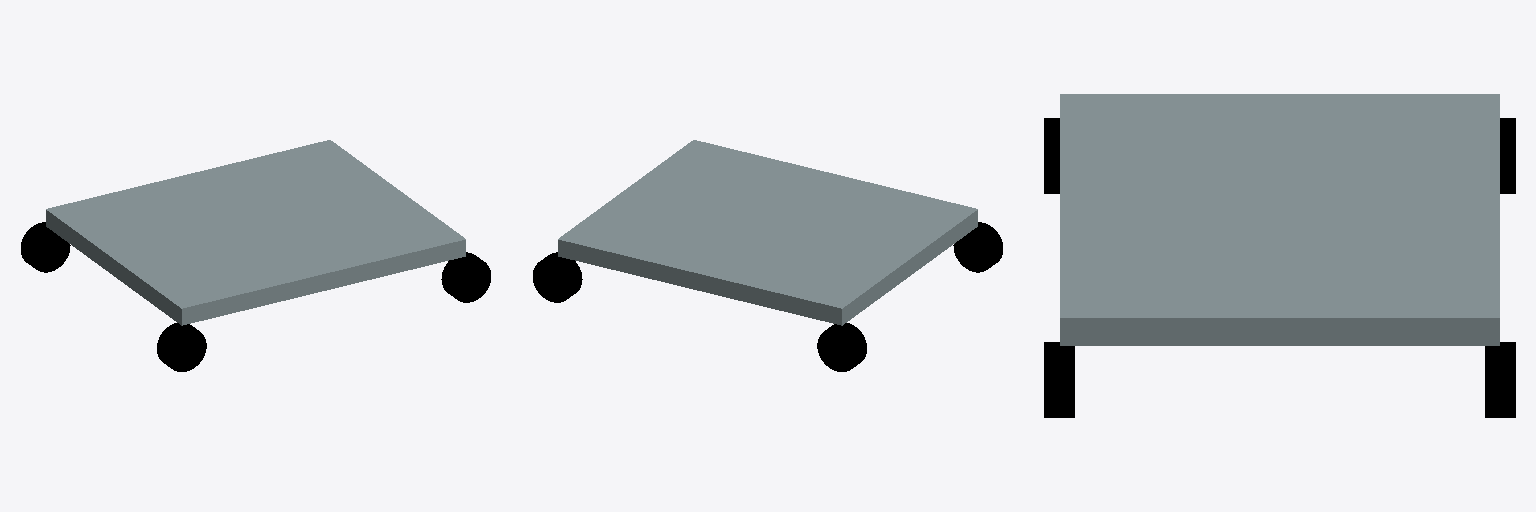
The robot description file, URDF, robot "small_car":
<?xml version="1.0" ?>
<!-- =================================================================================== -->
<!-- |    This document was autogenerated by xacro from car.xacro                      | -->
<!-- |    EDITING THIS FILE BY HAND IS NOT RECOMMENDED                                 | -->
<!-- =================================================================================== -->
<!-- <?xml version="1.0"?>
<robot xmlns:xacro="http://www.ros.org/wiki/xacro" name="Fan"> -->
<!--  -->
<robot name="small_car">
  <material name="green">
    <color rgba="0 0.5 0.2 1"/>
  </material>
  <material name="black">
    <color rgba="0 0 0 1"/>
  </material>
  <material name="white">
    <color rgba="1 1 1 1"/>
  </material>
  <material name="grey">
    <color rgba="0.5843137254901961 0.6392156862745098 0.6509803921568628 1"/>
  </material>
  <link name="base_footprint"/>
<joint name="base_joint" type="fixed">
<parent link="base_footprint"/>
<child link="base_link"/>
<origin rpy="0 0 0" xyz="0 0 0.010"/>
</joint>

  <link name="base_link">
    <visual>
      <geometry>
        <box size="0.35 0.29 0.02"/>
      </geometry>
      <origin rpy="0 0 0" xyz="0 0 0"/>
      <material name="grey"/>
    </visual>
    <collision>
      <geometry>
        <box size="0.35 0.29 0.02"/>
      </geometry>
      <origin rpy="0 0 0" xyz="0 0 0"/>
    </collision>
    <inertial>
      <mass value="0.5"/>
      <!-- box inertia -->
      <inertia ixx="0.005120833333333332" ixy="0.0" ixz="0.0" iyy="0.003520833333333333" iyz="0.0" izz="0.008608333333333332"/>
    </inertial>
  </link>
  <link name="right_front_steering_wheel">
    <inertial>
      <mass value="0.1"/>
      <inertia ixx="1.8958333333333338e-05" ixy="0.0" ixz="0.0" iyy="1.8958333333333338e-05" iyz="0.0" izz="3.125000000000001e-05"/>
    </inertial>
  </link>
  <!-- steering wheel -->
  <joint name="right_front_steering_wheel_joint" type="revolute">
    <axis rpy="0 0 0" xyz="0 0 1"/>
    <parent link="base_link"/>
    <child link="right_front_steering_wheel"/>
    <origin rpy="0 0 0" xyz="0.175 -0.145 -0.035"/>
  </joint>
  <link name="left_front_steering_wheel">
    <inertial>
      <mass value="0.1"/>
      <inertia ixx="1.8958333333333338e-05" ixy="0.0" ixz="0.0" iyy="1.8958333333333338e-05" iyz="0.0" izz="3.125000000000001e-05"/>
    </inertial>
  </link>
  <!-- steering wheel -->
  <joint name="left_front_steering_wheel_joint" type="revolute">
    <axis rpy="0 0 0" xyz="0 0 1"/>
    <parent link="base_link"/>
    <child link="left_front_steering_wheel"/>
    <origin rpy="0 0 0" xyz="0.175 0.145 -0.035"/>
  </joint>
  <link name="right_front_forward_wheel">
    <visual>
      <origin rpy="1.5707963267948966 0 0" xyz="0 0 0"/>
      <geometry>
        <cylinder length="0.02" radius="0.025"/>
      </geometry>
      <material name="black"/>
    </visual>
    <collision>
      <origin rpy="1.5707963267948966 0 0" xyz="0 0 0"/>
      <geometry>
        <cylinder length="0.02" radius="0.025"/>
      </geometry>
    </collision>
    <inertial>
      <mass value="0.1"/>
      <!-- cylinder inertia -->
      <inertia ixx="1.8958333333333338e-05" ixy="0.0" ixz="0.0" iyy="1.8958333333333338e-05" iyz="0.0" izz="3.125000000000001e-05"/>
    </inertial>
  </link>
  <!-- move forward wheel -->
  <joint name="right_front_forward_wheel_joint" type="continuous">
    <axis rpy="0 0 0" xyz="0 1 0"/>
    <parent link="right_front_steering_wheel"/>
    <child link="right_front_forward_wheel"/>
    <origin rpy="0 0 0" xyz="0.0 -0.0 -0.0"/>
  </joint>
  <link name="left_front_forward_wheel">
    <visual>
      <origin rpy="1.5707963267948966 0 0" xyz="0 0 0"/>
      <geometry>
        <cylinder length="0.02" radius="0.025"/>
      </geometry>
      <material name="black"/>
    </visual>
    <collision>
      <origin rpy="1.5707963267948966 0 0" xyz="0 0 0"/>
      <geometry>
        <cylinder length="0.02" radius="0.025"/>
      </geometry>
    </collision>
    <inertial>
      <mass value="0.1"/>
      <!-- cylinder inertia -->
      <inertia ixx="1.8958333333333338e-05" ixy="0.0" ixz="0.0" iyy="1.8958333333333338e-05" iyz="0.0" izz="3.125000000000001e-05"/>
    </inertial>
  </link>
  <!-- move forward wheel -->
  <joint name="left_front_forward_wheel_joint" type="continuous">
    <axis rpy="0 0 0" xyz="0 1 0"/>
    <parent link="left_front_steering_wheel"/>
    <child link="left_front_forward_wheel"/>
    <origin rpy="0 0 0" xyz="0.0 0.0 -0.0"/>
  </joint>
  <link name="right_back_forward_wheel">
    <visual>
      <origin rpy="1.5707963267948966 0 0" xyz="0 0 0"/>
      <geometry>
        <cylinder length="0.02" radius="0.025"/>
      </geometry>
      <material name="black"/>
    </visual>
    <collision>
      <origin rpy="1.5707963267948966 0 0" xyz="0 0 0"/>
      <geometry>
        <cylinder length="0.02" radius="0.025"/>
      </geometry>
    </collision>
    <inertial>
      <mass value="0.1"/>
      <!-- cylinder inertia -->
      <inertia ixx="1.8958333333333338e-05" ixy="0.0" ixz="0.0" iyy="1.8958333333333338e-05" iyz="0.0" izz="3.125000000000001e-05"/>
    </inertial>
  </link>
  <!-- move forward wheel -->
  <joint name="right_back_forward_wheel_joint" type="continuous">
    <axis rpy="0 0 0" xyz="0 1 0"/>
    <parent link="base_link"/>
    <child link="right_back_forward_wheel"/>
    <origin rpy="0 0 0" xyz="-0.175 -0.145 -0.035"/>
  </joint>
  <link name="left_back_forward_wheel">
    <visual>
      <origin rpy="1.5707963267948966 0 0" xyz="0 0 0"/>
      <geometry>
        <cylinder length="0.02" radius="0.025"/>
      </geometry>
      <material name="black"/>
    </visual>
    <collision>
      <origin rpy="1.5707963267948966 0 0" xyz="0 0 0"/>
      <geometry>
        <cylinder length="0.02" radius="0.025"/>
      </geometry>
    </collision>
    <inertial>
      <mass value="0.1"/>
      <!-- cylinder inertia -->
      <inertia ixx="1.8958333333333338e-05" ixy="0.0" ixz="0.0" iyy="1.8958333333333338e-05" iyz="0.0" izz="3.125000000000001e-05"/>
    </inertial>
  </link>
  <!-- move forward wheel -->
  <joint name="left_back_forward_wheel_joint" type="continuous">
    <axis rpy="0 0 0" xyz="0 1 0"/>
    <parent link="base_link"/>
    <child link="left_back_forward_wheel"/>
    <origin rpy="0 0 0" xyz="-0.175 0.145 -0.035"/>
  </joint>
</robot>

--- What the picture shows (computed from the rendered views, not written in the file) ---
The picture shows the robot from 3 angles, left to right: view 1: azimuth 30°, elevation 25°; view 2: azimuth 150°, elevation 25°; view 3: azimuth 270°, elevation 25°; orthographic projection.
Model small_car with 8 links and 7 joints (2 revolute, 4 continuous, 1 fixed), rooted at base_footprint, posed all joints at 0.
Links seen in each view (by area): view 1: base_link, right_back_forward_wheel, right_front_forward_wheel, left_back_forward_wheel; view 2: base_link, left_back_forward_wheel, left_front_forward_wheel, right_back_forward_wheel; view 3: base_link, right_front_forward_wheel, left_front_forward_wheel, right_back_forward_wheel, left_back_forward_wheel.
Boxes of the visible links, left/top/right/bottom form: base_link: left=46, top=140, right=465, bottom=325; right_back_forward_wheel: left=157, top=323, right=206, bottom=371; right_front_forward_wheel: left=441, top=252, right=490, bottom=302; left_back_forward_wheel: left=21, top=222, right=70, bottom=272; base_link: left=558, top=140, right=977, bottom=325; left_back_forward_wheel: left=817, top=323, right=866, bottom=371; left_front_forward_wheel: left=533, top=252, right=582, bottom=302; right_back_forward_wheel: left=953, top=222, right=1002, bottom=272; base_link: left=1060, top=94, right=1499, bottom=345; right_front_forward_wheel: left=1044, top=342, right=1074, bottom=417; left_front_forward_wheel: left=1485, top=342, right=1515, bottom=417; right_back_forward_wheel: left=1044, top=118, right=1059, bottom=193; left_back_forward_wheel: left=1500, top=118, right=1515, bottom=193.
Size in the robot's own frame: 0.4 by 0.31 by 0.07 metres.
Geometry: primitives only (box / cylinder / sphere), no mesh files.